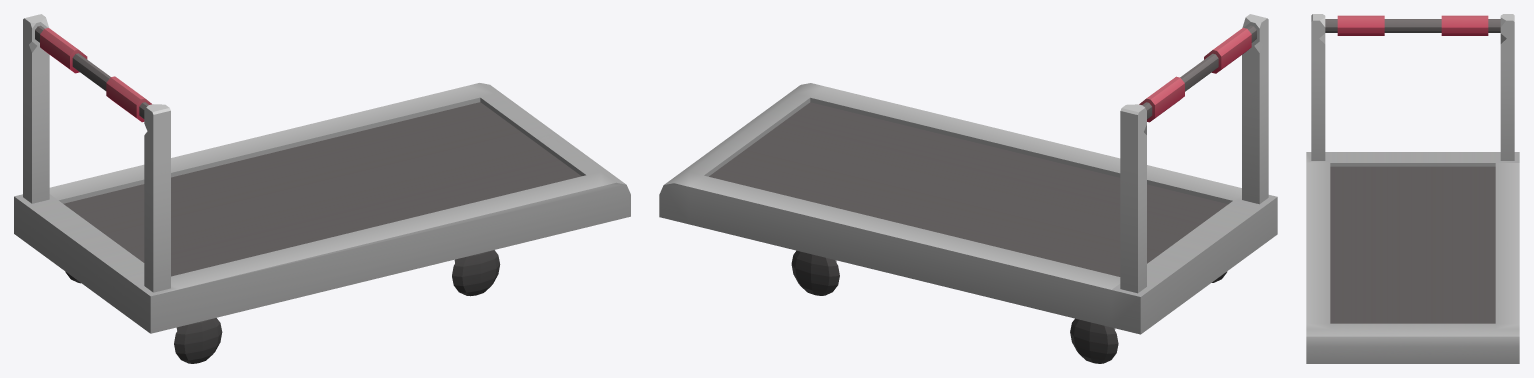
Rendered from obj_flatBedTrolley.fbx.
The picture shows the model from 3 angles, left to right: view 1: azimuth 30°, elevation 25°; view 2: azimuth 150°, elevation 25°; view 3: azimuth 270°, elevation 25°; orthographic projection. The views are drawn at different scales.
Parts seen in each view (by area): view 1: geo_flatBed; view 2: geo_flatBed; view 3: geo_flatBed.
Boxes of the visible parts, x1,y1,x2,y2 form: geo_flatBed: (14,14,630,363); geo_flatBed: (659,14,1277,363); geo_flatBed: (1306,14,1519,363).
Bounding box in the file's own units: 238 × 128 × 117.
Materials: 1 (1 with a texture image).
